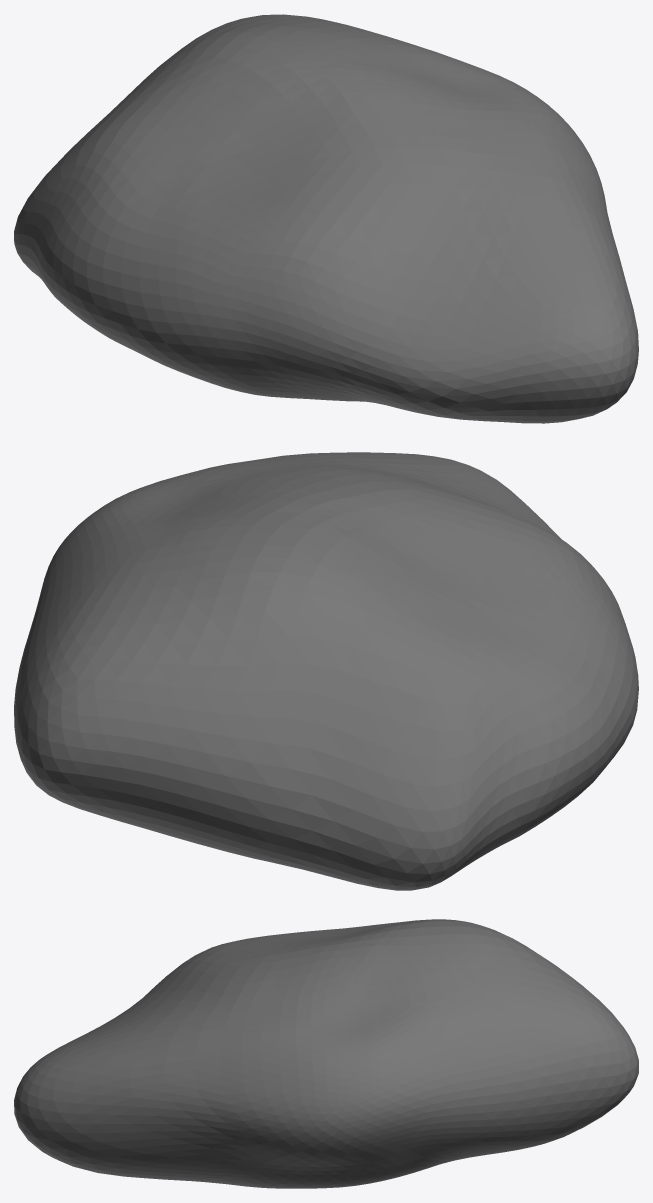
The model's file is rock_03.glb.
3 views of the same model, one above another, from view 1: azimuth 30°, elevation 25°; view 2: azimuth 150°, elevation 25°; view 3: azimuth 270°, elevation 25° (orthographic). The views are drawn at different scales.
Parts seen in each view (by area): view 1: Icosphere; view 2: Icosphere; view 3: Icosphere.
Boxes of the visible parts, x1=… form: Icosphere: x1=14, y1=14, x2=638, y2=423; Icosphere: x1=14, y1=452, x2=638, y2=890; Icosphere: x1=14, y1=919, x2=638, y2=1188.
Bounding box in the file's own units: 2.56 × 1.26 × 3.45.
Materials: 1 (1 with a texture image).
